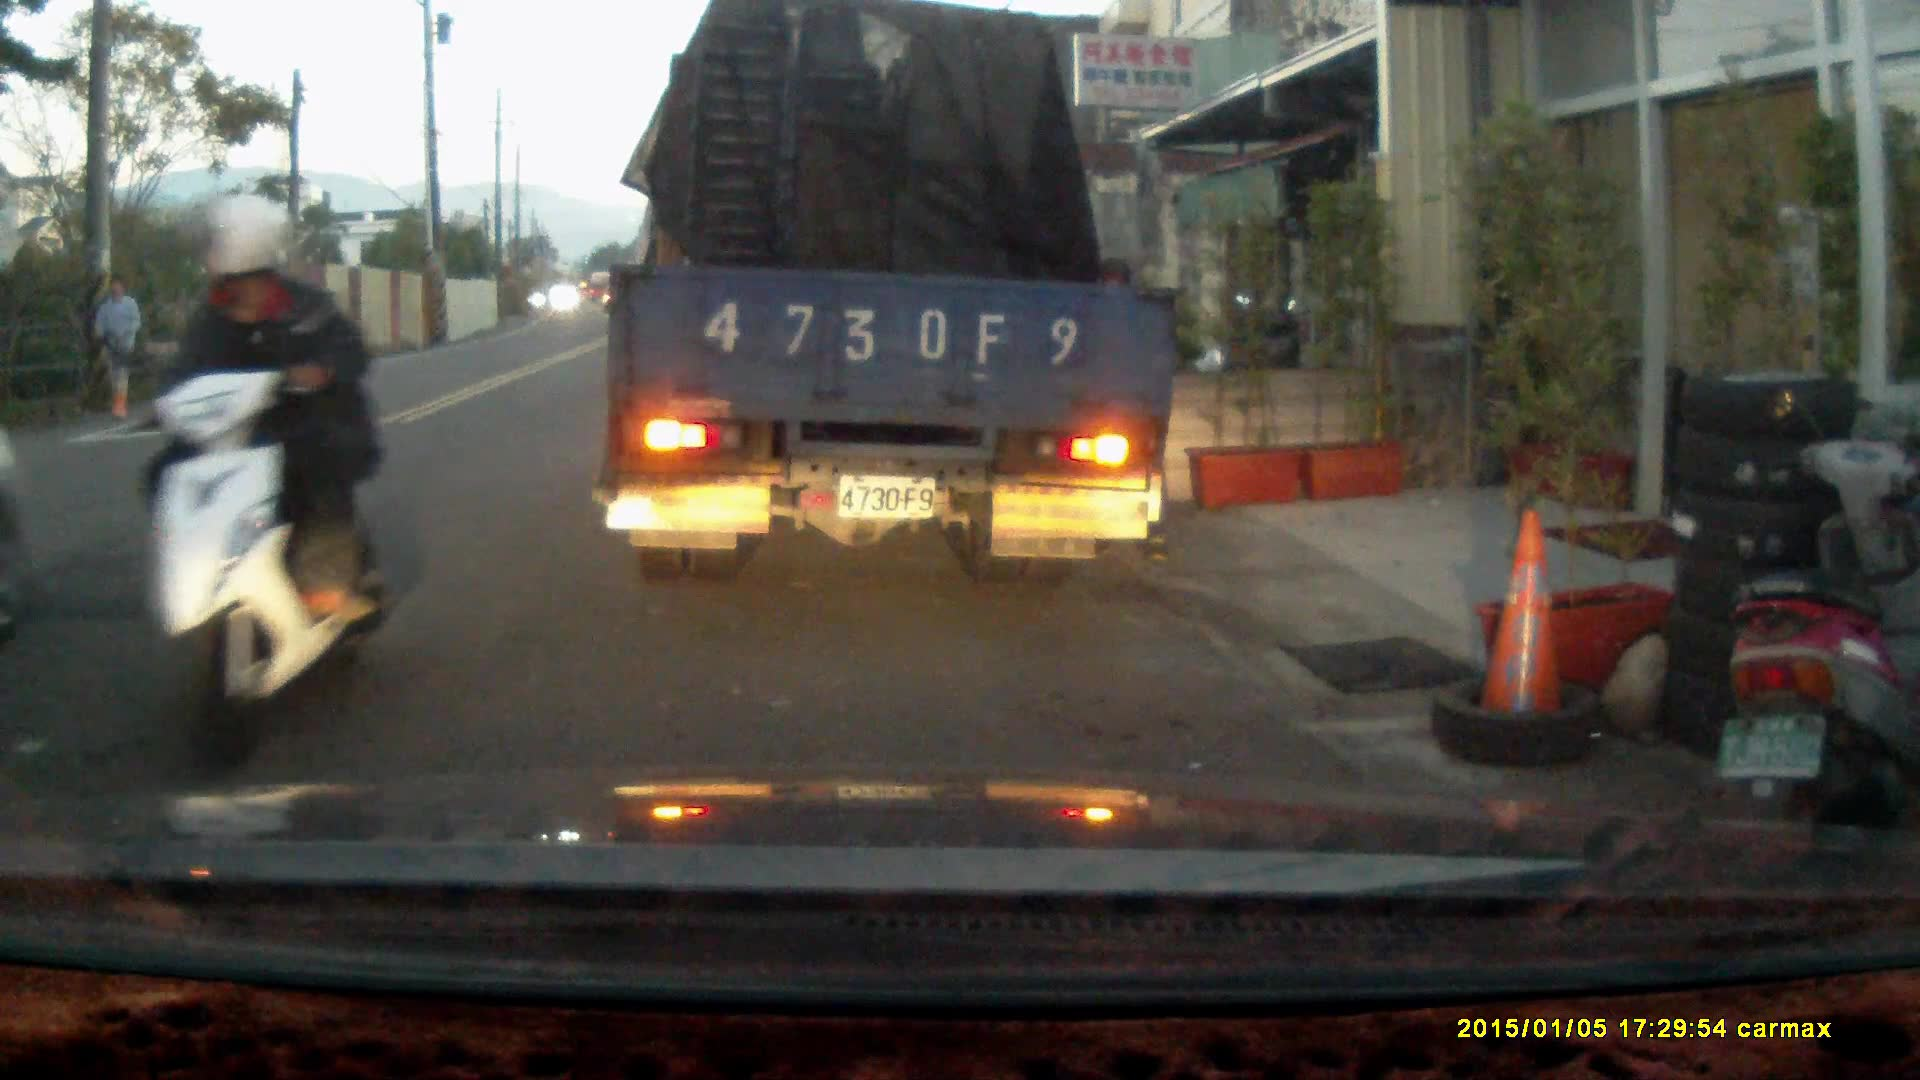pedestrian: (91, 270, 145, 416)
rider: (106, 192, 385, 774)
vehicle: (600, 23, 1186, 572)
